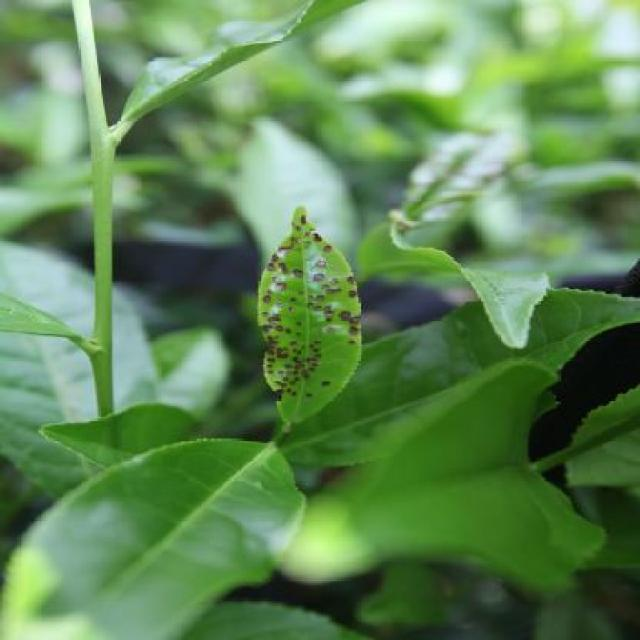Tea Mosquito bug infested leaf: (232, 191, 350, 423)
